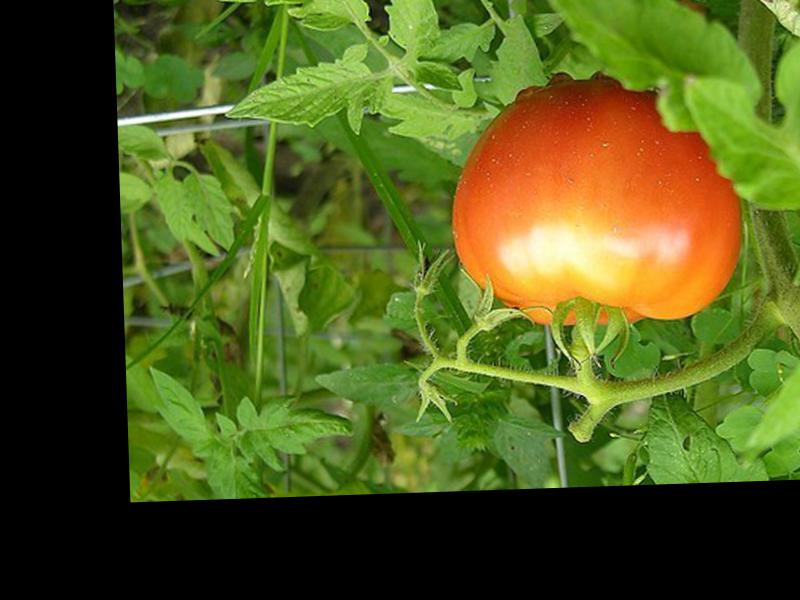Tomato: (450, 78, 743, 331)
